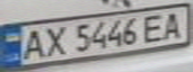4: (90, 18, 112, 51), (106, 16, 127, 48)
5: (69, 20, 93, 53)
6: (121, 15, 145, 46)
A: (15, 27, 51, 61), (157, 9, 190, 39)
E: (139, 11, 172, 43)
X: (39, 24, 69, 57)
